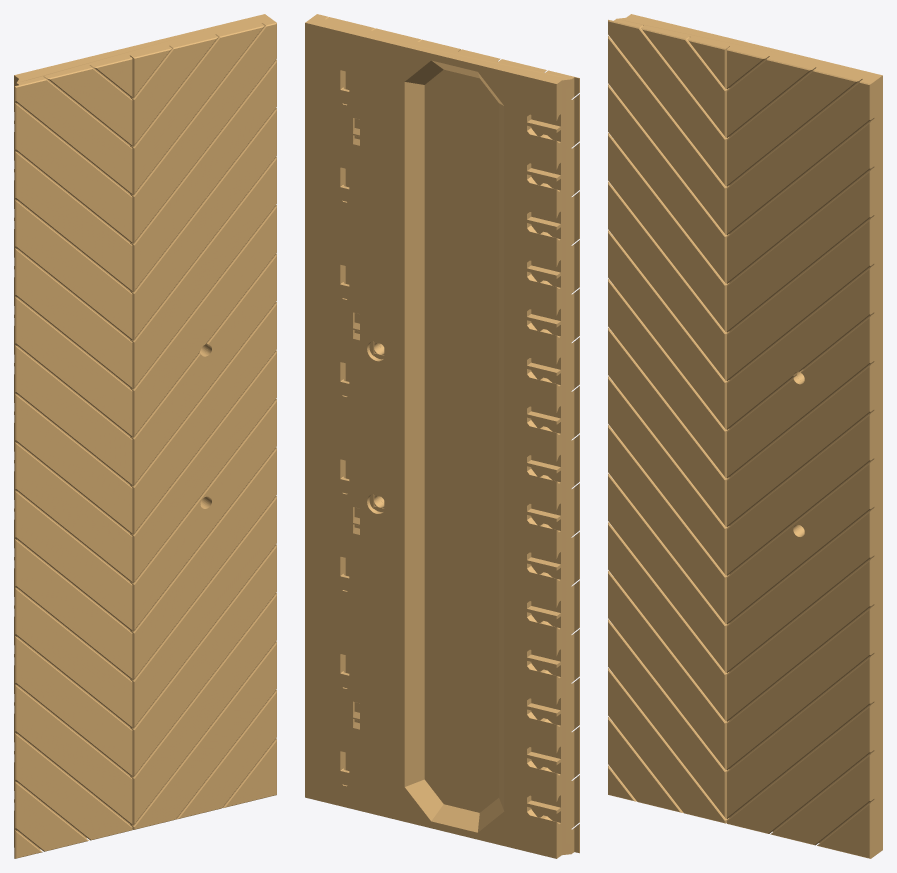
The model's file is Door_Chevron_1W-4H.lib.glb.
3 views of the same model, side by side, from view 1: azimuth 30°, elevation 25°; view 2: azimuth 150°, elevation 25°; view 3: azimuth 330°, elevation 25° (orthographic).
Parts seen in each view (by area): view 1: Door_Chevron_1W-4H; view 2: Door_Chevron_1W-4H; view 3: Door_Chevron_1W-4H.
Part boxes in pixels (<box>): Door_Chevron_1W-4H: <box>14,14,276,858</box>; Door_Chevron_1W-4H: <box>305,14,579,858</box>; Door_Chevron_1W-4H: <box>608,14,882,858</box>.
Size of the model in its own units: 79.14 by 223 by 6.51.
